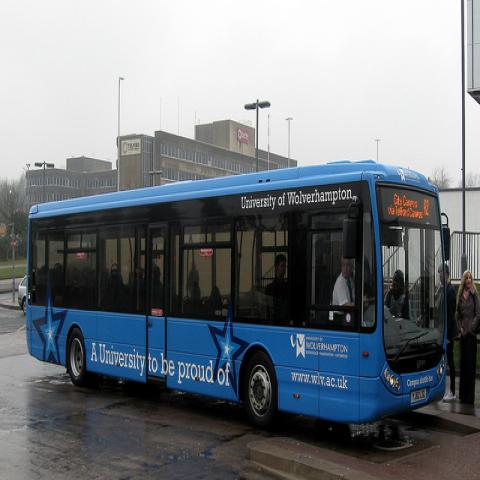bus: (26, 160, 450, 426)
car: (18, 273, 27, 316)
